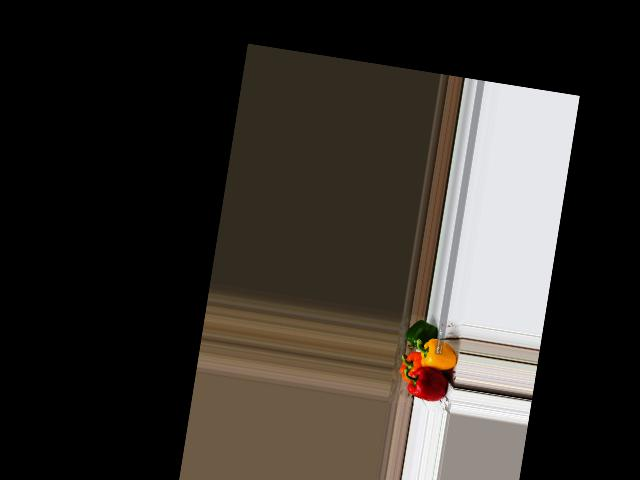bell_pepper: (397, 348, 425, 384)
